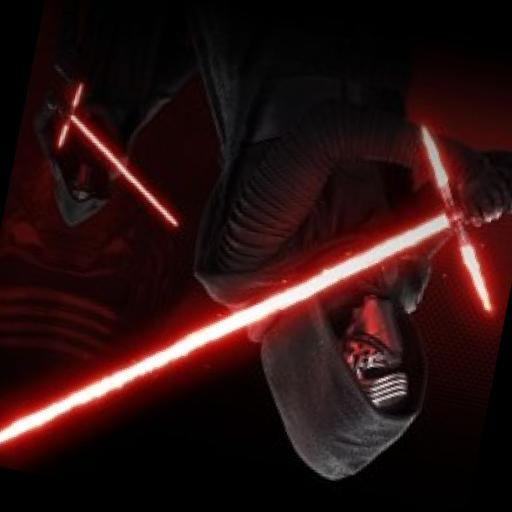sith saber: (0, 62, 512, 512), (30, 78, 202, 226)
